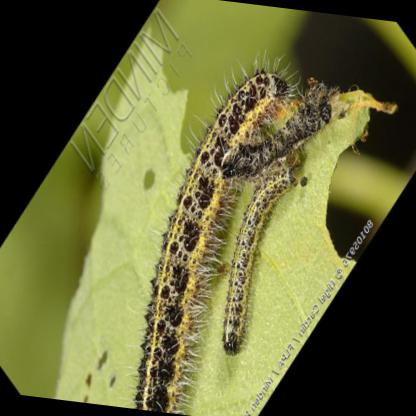pieris: (134, 60, 295, 413), (221, 168, 303, 357), (216, 83, 335, 181)
